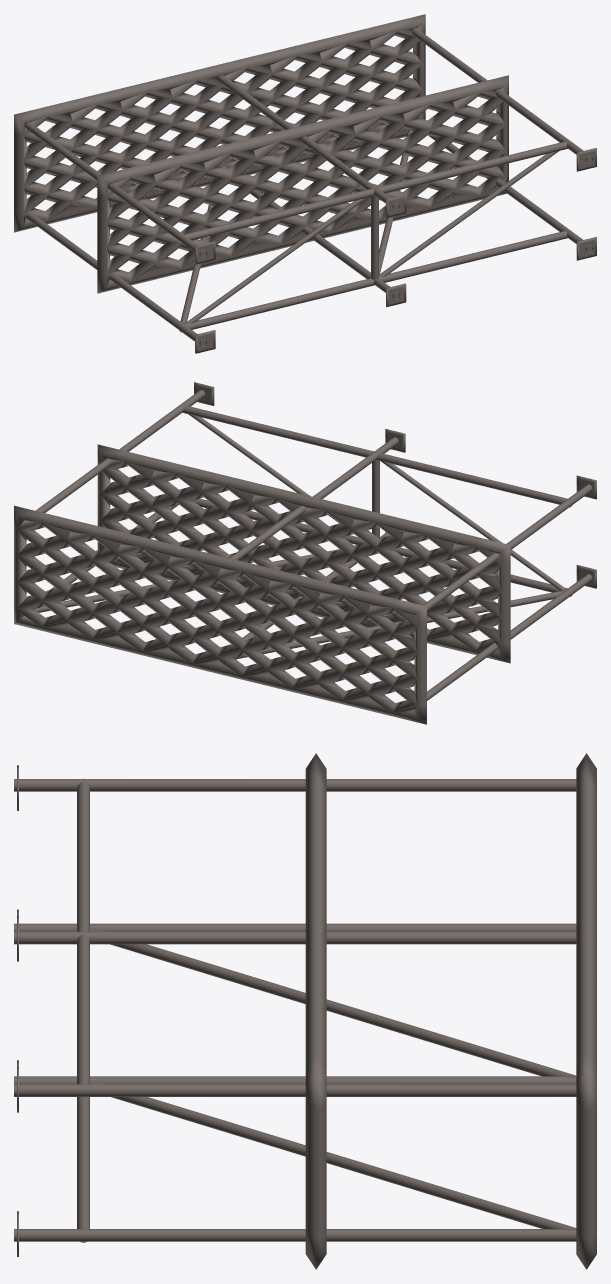
Rendered from scaffolding.fbx.
3 renders of one model, top to bottom at view 1: azimuth 30°, elevation 25°; view 2: azimuth 150°, elevation 25°; view 3: azimuth 270°, elevation 25°, orthographic. The views are drawn at different scales.
Visible parts, largest first — view 1: scaffolding; view 2: scaffolding; view 3: scaffolding.
Boxes of the visible parts, bbox=[...] form: scaffolding: bbox=[14, 14, 596, 353]; scaffolding: bbox=[14, 382, 596, 724]; scaffolding: bbox=[14, 753, 596, 1269].
Size of the model in its own units: 661 by 181 by 500.
1 material, 1 textured.
